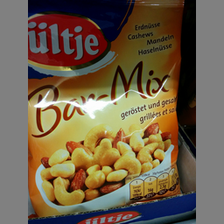nuts: (28, 1, 183, 216)
